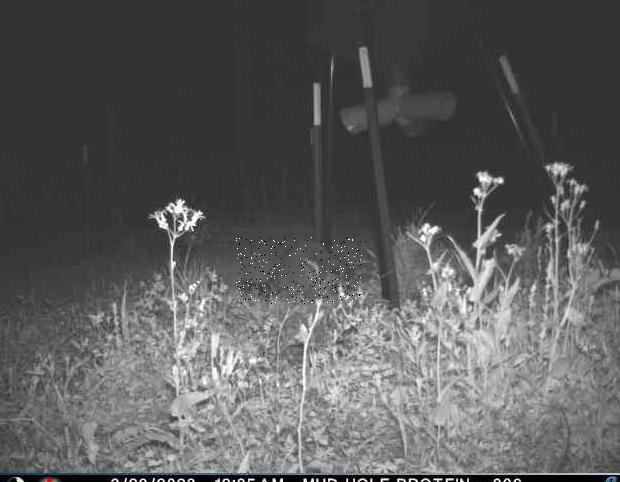Raccoon: (236, 237, 362, 304)
